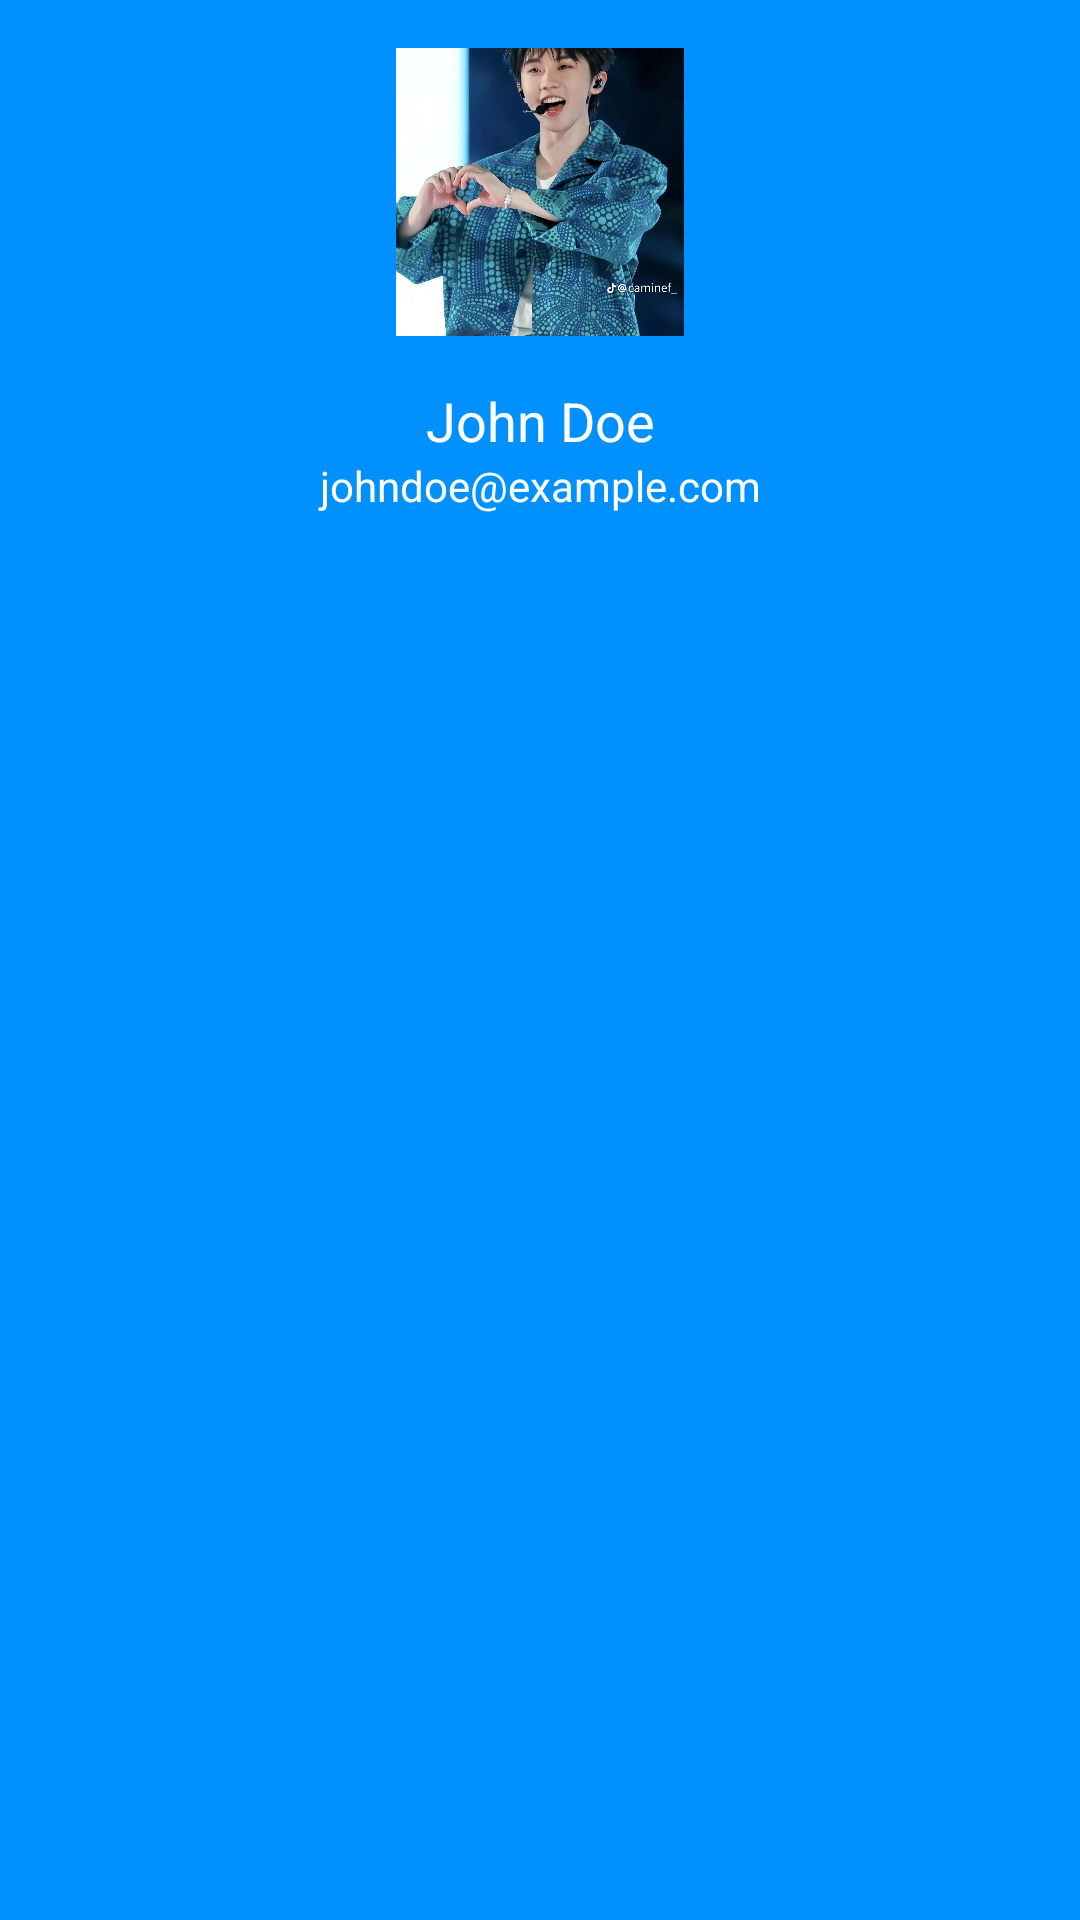

Named icons in this screenshot (1080 × 1920) and their bounding boxes, [x1, y1, x2, y2]:
anh: [396, 48, 684, 336]
